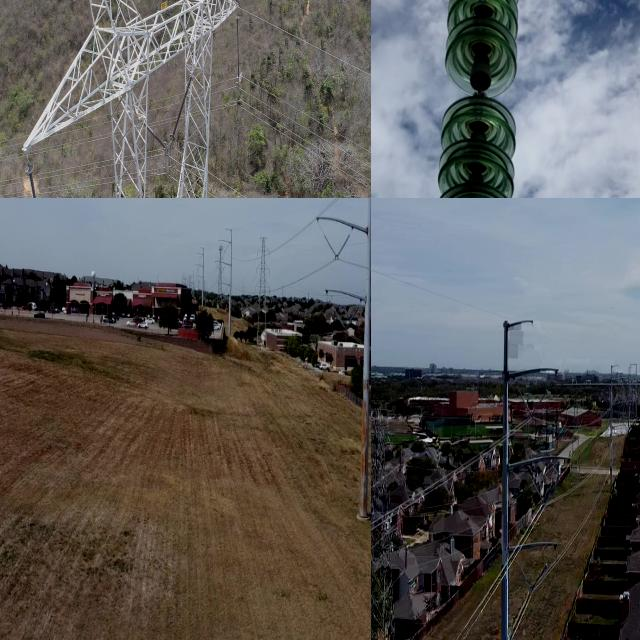杆塔: (25, 0, 242, 198), (371, 385, 405, 640), (254, 234, 273, 357)
正常绝缘子: (437, 0, 517, 198), (169, 72, 195, 142), (24, 154, 54, 198), (138, 115, 167, 152), (331, 228, 355, 268), (328, 299, 352, 338), (319, 228, 341, 264), (343, 300, 362, 335), (235, 15, 241, 78)
绝缘子破损: (466, 65, 498, 94)
